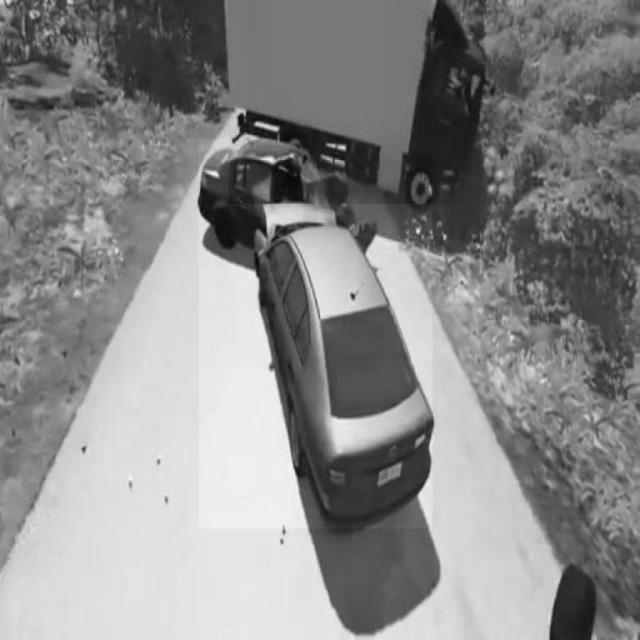accident: (199, 139, 432, 529), (228, 0, 513, 203)
